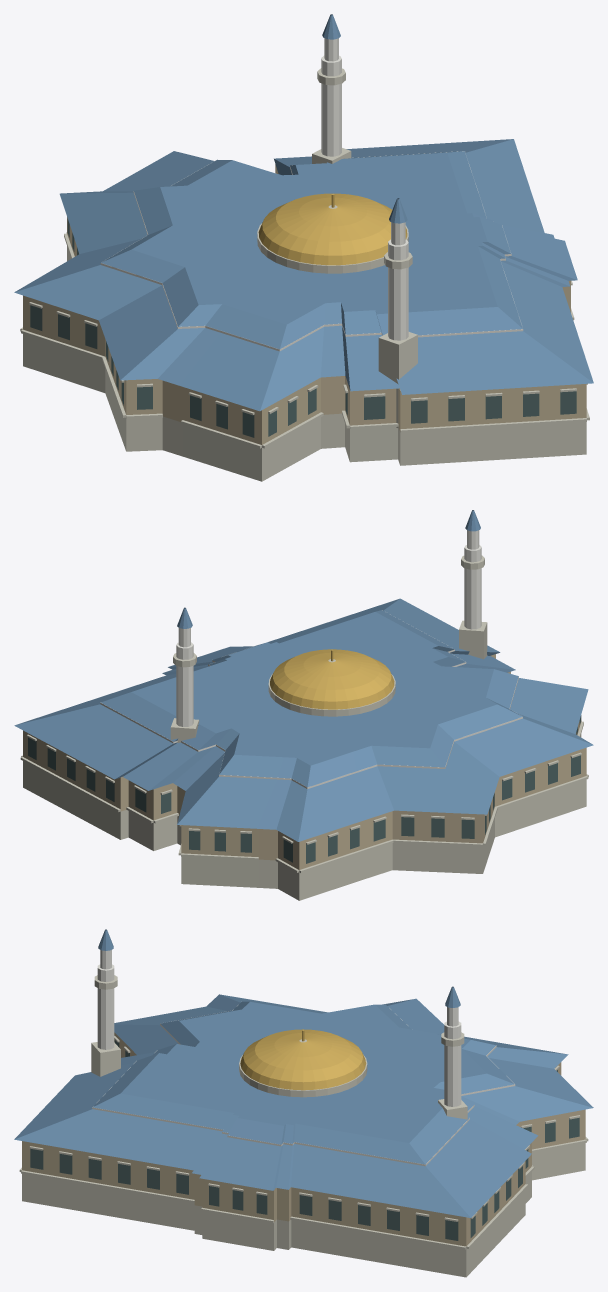
The model's file is masjid_lod0.glb.
3 renders of one model, top to bottom at view 1: azimuth 30°, elevation 25°; view 2: azimuth 150°, elevation 25°; view 3: azimuth 270°, elevation 25°, orthographic. The views are drawn at different scales.
Parts seen in each view (by area): view 1: RoofBlue, Stone, PaintWarm, GoldPanels, PaintWhite, GlassDark; view 2: RoofBlue, Stone, PaintWarm, GoldPanels, GlassDark, PaintWhite; view 3: RoofBlue, Stone, PaintWarm, GoldPanels, GlassDark, PaintWhite.
Boxes of the visible parts, bbox=[...] form: RoofBlue: bbox=[14, 14, 593, 411]; Stone: bbox=[20, 68, 589, 481]; PaintWarm: bbox=[23, 164, 586, 444]; GoldPanels: bbox=[258, 193, 407, 265]; PaintWhite: bbox=[100, 38, 523, 351]; GlassDark: bbox=[30, 219, 576, 437]; RoofBlue: bbox=[14, 510, 593, 841]; Stone: bbox=[20, 555, 588, 900]; PaintWarm: bbox=[23, 654, 586, 869]; GoldPanels: bbox=[270, 649, 394, 709]; GlassDark: bbox=[28, 715, 581, 863]; PaintWhite: bbox=[100, 530, 522, 788]; RoofBlue: bbox=[14, 929, 593, 1217]; Stone: bbox=[19, 975, 588, 1277]; PaintWarm: bbox=[22, 1032, 585, 1246]; GoldPanels: bbox=[240, 1029, 366, 1090]; GlassDark: bbox=[30, 1040, 579, 1240]; PaintWhite: bbox=[92, 950, 515, 1166].
Size of the model in its own units: 62.31 by 27.8 by 68.24.
